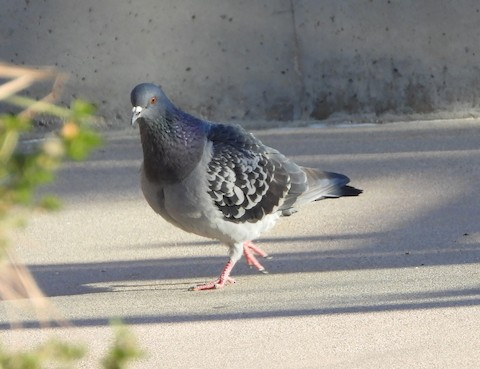pigeon: (129, 81, 368, 293)
